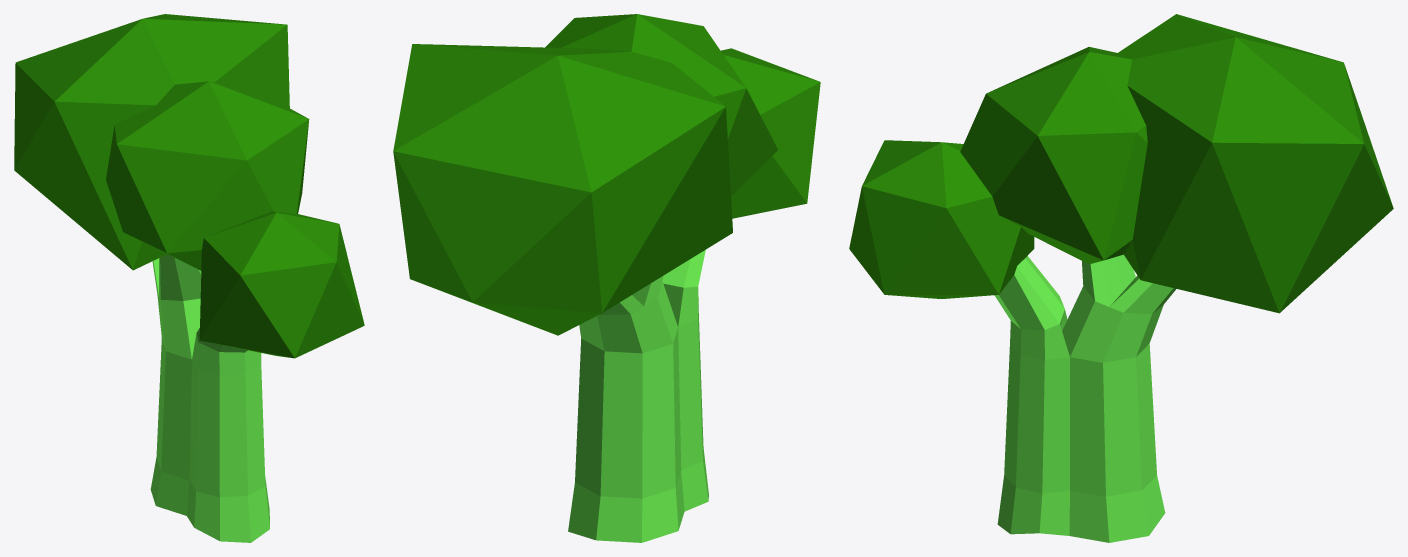
File: broccoli01.obj
The picture shows the model from 3 angles, left to right: view 1: azimuth 30°, elevation 25°; view 2: azimuth 150°, elevation 25°; view 3: azimuth 270°, elevation 25°; orthographic projection. The views are drawn at different scales.
Parts seen in each view (by area): view 1: Cylinder.001; view 2: Cylinder.001; view 3: Cylinder.001.
Boxes of the visible parts, <box> form: Cylinder.001: <box>14,14,364,542</box>; Cylinder.001: <box>393,14,820,542</box>; Cylinder.001: <box>849,14,1393,542</box>.
Size of the model in its own units: 0.1045 by 0.1781 by 0.1803.
Materials: 1 (1 with a texture image).
